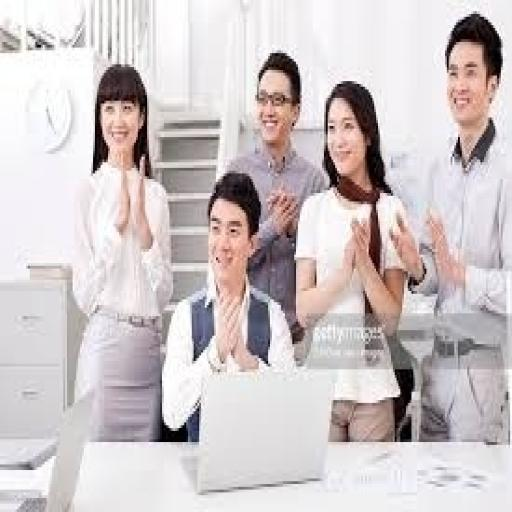clapping: (389, 11, 510, 445), (292, 78, 412, 442), (69, 62, 175, 442), (160, 168, 298, 442), (218, 47, 329, 347)
